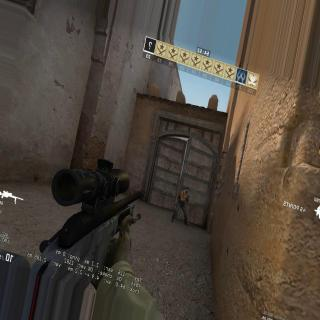T-Body: (177, 185, 190, 223)
T-Head: (185, 185, 189, 192)
